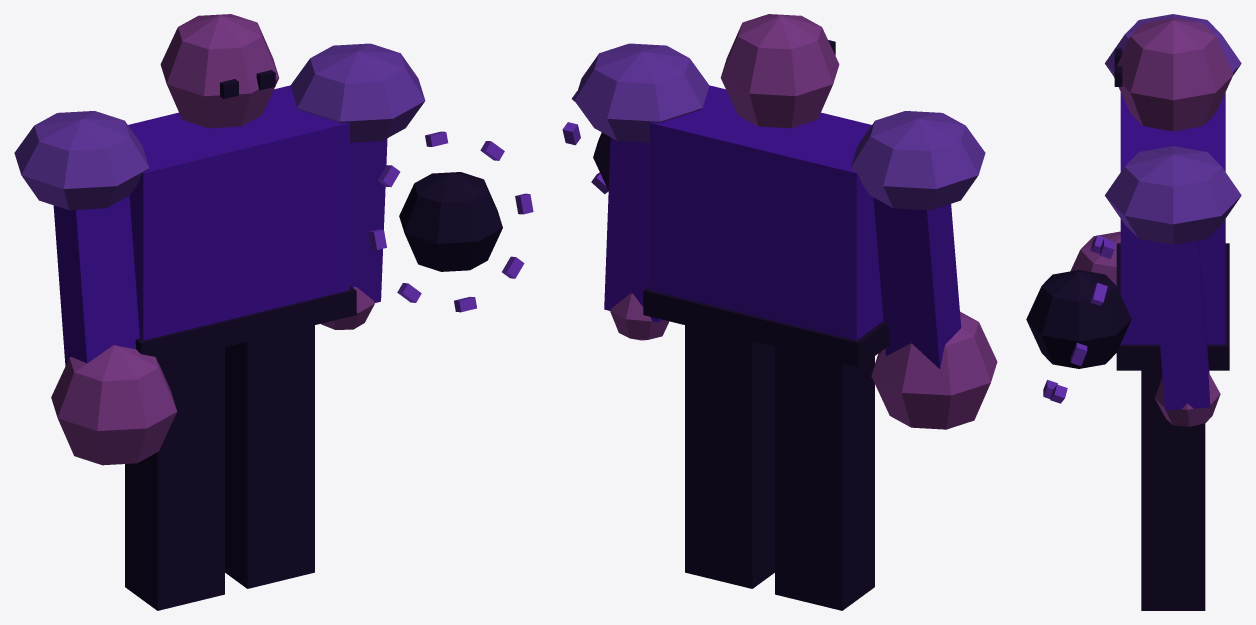
Rendered from SM_Champion_9016_Null.glb.
3 renders of one model, left to right at view 1: azimuth 30°, elevation 25°; view 2: azimuth 150°, elevation 25°; view 3: azimuth 270°, elevation 25°, orthographic. The views are drawn at different scales.
Parts seen in each view (by area): view 1: SM_Champion_9016_Null; view 2: SM_Champion_9016_Null; view 3: SM_Champion_9016_Null.
Part boxes in pixels (<box>): SM_Champion_9016_Null: <box>14,14,533,610</box>; SM_Champion_9016_Null: <box>562,14,997,610</box>; SM_Champion_9016_Null: <box>1026,14,1241,610</box>.
Size of the model in its own units: 1.34 by 1.57 by 0.5547.
